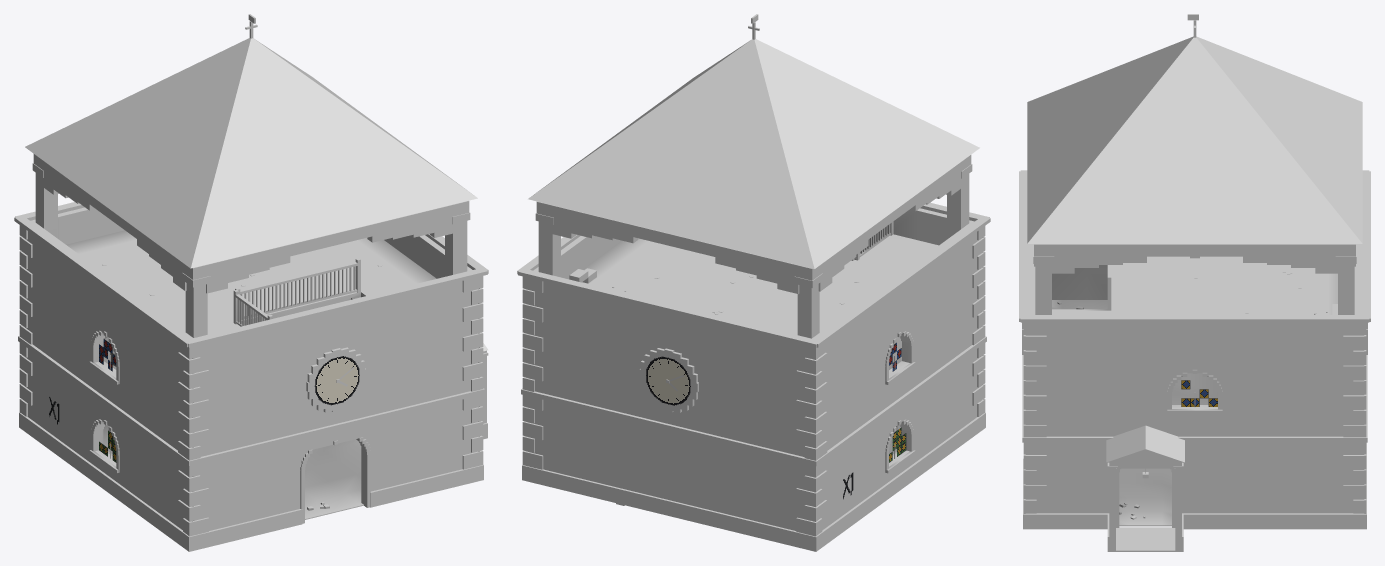
Rendered from bell_tower.glb.
3 views of the same model, side by side, from view 1: azimuth 30°, elevation 25°; view 2: azimuth 150°, elevation 25°; view 3: azimuth 270°, elevation 25° (orthographic).
Parts seen in each view (by area): view 1: bell_tower; view 2: bell_tower; view 3: bell_tower.
Boxes of the visible parts, bbox=[...] form: bell_tower: bbox=[14, 14, 488, 551]; bell_tower: bbox=[517, 14, 990, 551]; bell_tower: bbox=[1019, 14, 1370, 551].
Size of the model in its own units: 12.21 by 15.08 by 10.7.
Materials: 3 (2 with a texture image).
